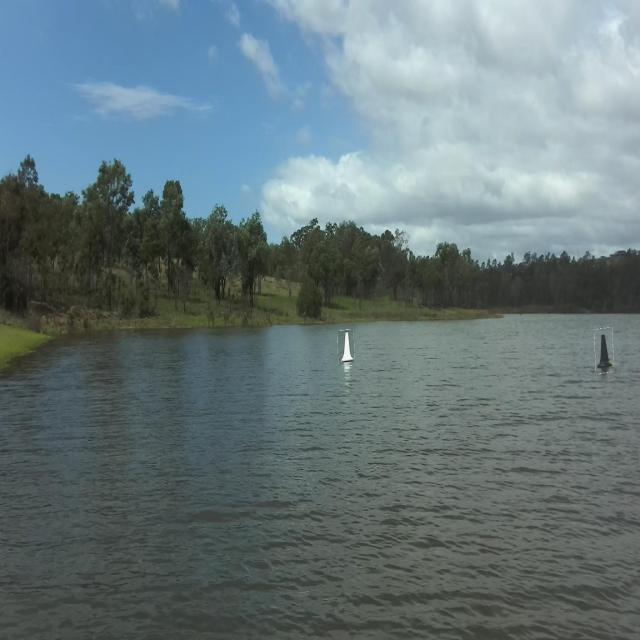Black_Buoy: (588, 326, 618, 380)
White_Buoy: (336, 328, 356, 365)
